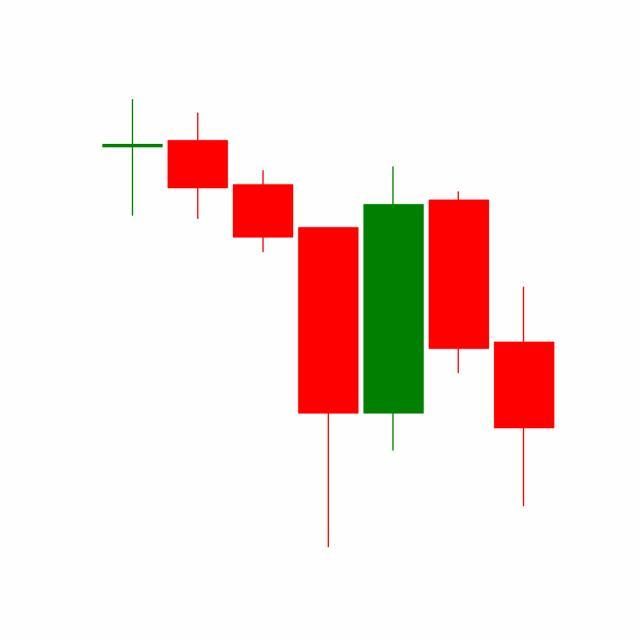Hikkake Pattern: (229, 162, 555, 549)
